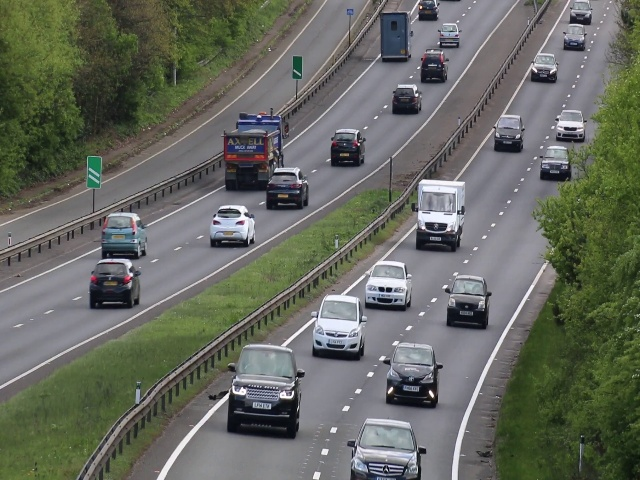car: (227, 343, 301, 441), (220, 110, 285, 190), (347, 417, 425, 480), (385, 339, 440, 410), (414, 178, 465, 252), (313, 294, 365, 361), (89, 256, 140, 311), (364, 258, 415, 312), (98, 212, 151, 258), (448, 274, 489, 331), (207, 205, 256, 249), (264, 169, 312, 211), (378, 9, 412, 63), (332, 126, 366, 166), (540, 144, 571, 183), (494, 112, 524, 152), (389, 84, 423, 115), (556, 110, 585, 143), (532, 49, 557, 86), (563, 21, 586, 52), (438, 22, 461, 48), (570, 1, 592, 25), (418, 1, 439, 19)
